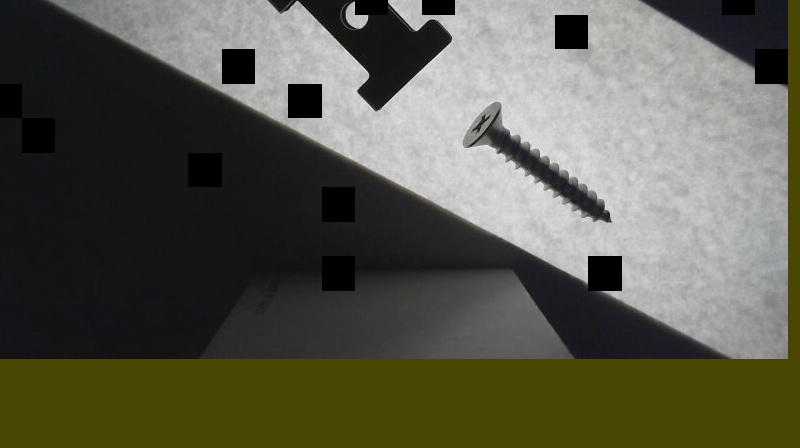O002: (257, 0, 451, 112)
S001: (458, 98, 613, 225)
